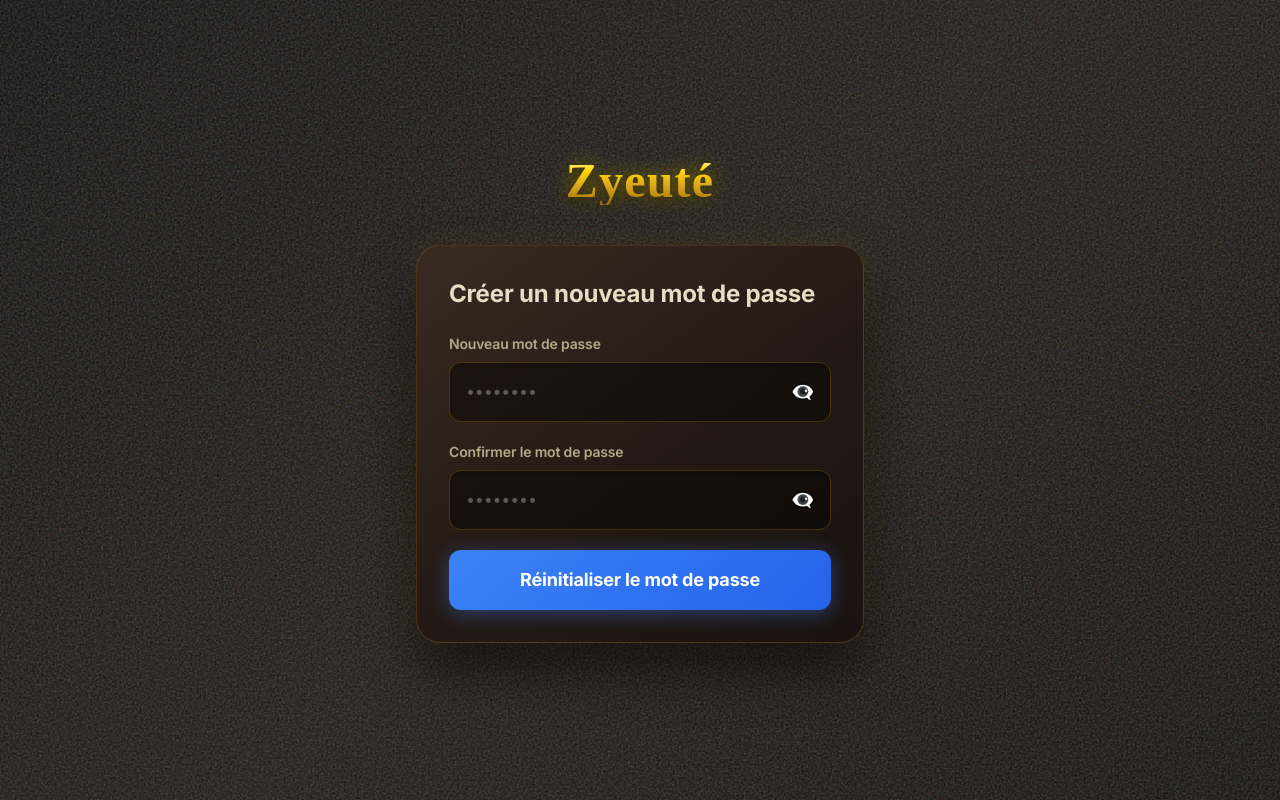
Test: Password Management › ResetPassword Page › should validate password matching
Step 1. Type "password123" into the 1st password field with placeholder "••••••••" → (640, 392), box [449,362,831,422]
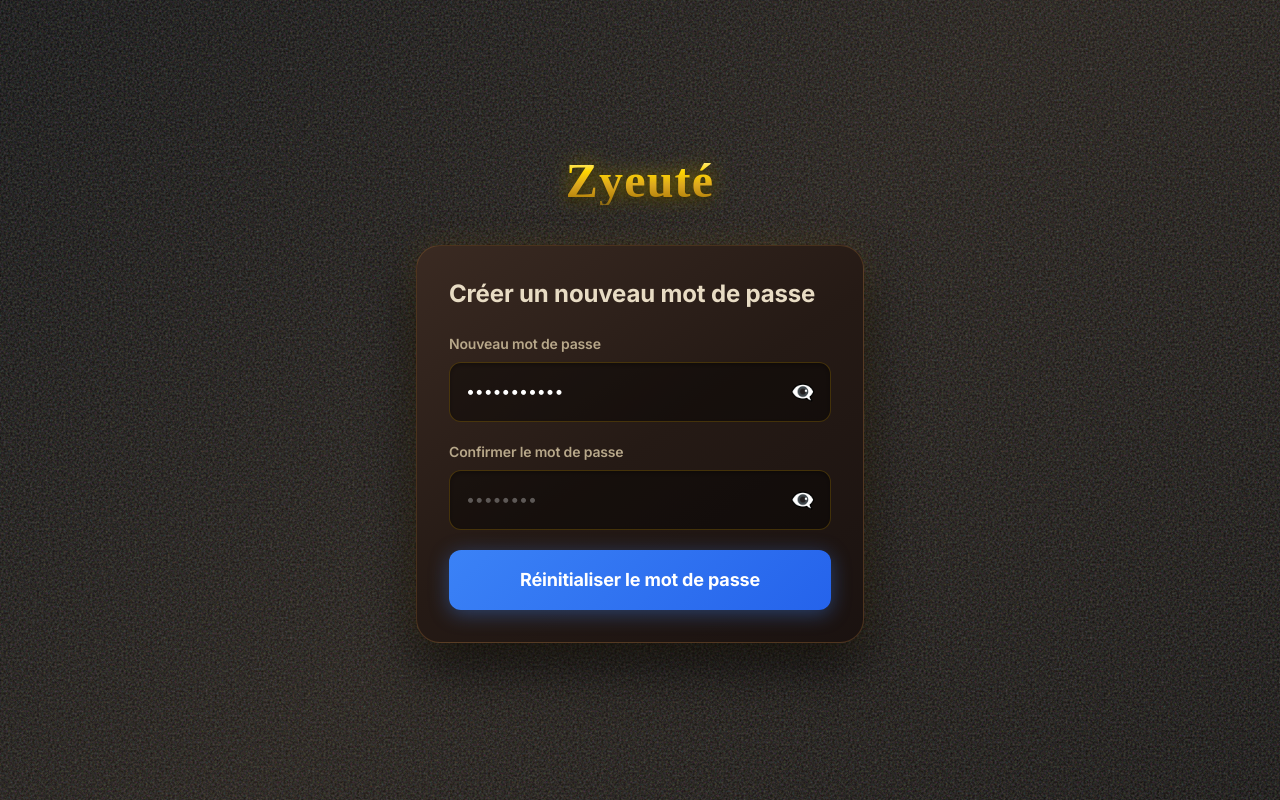
Step 2. Type "different" into the password field with placeholder "••••••••" → (640, 500), box [449,470,831,530]
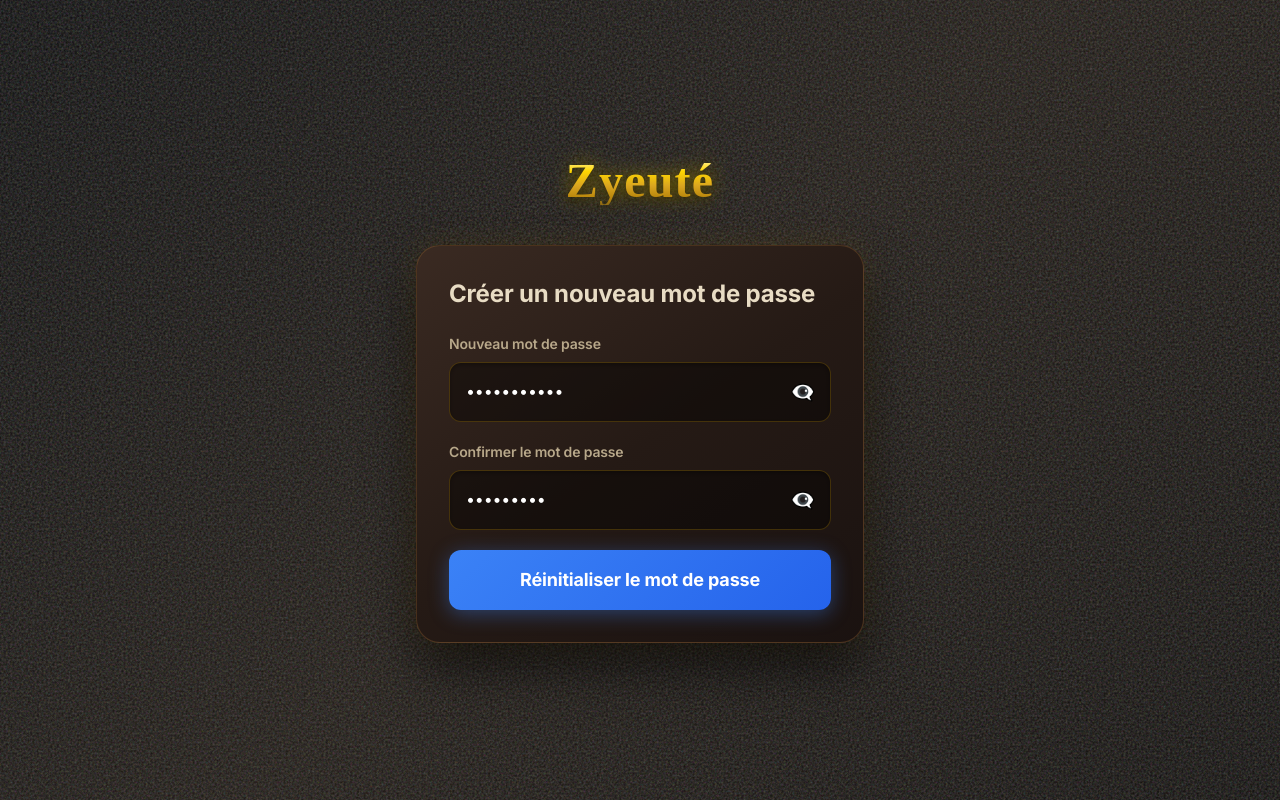
Step 3. Click the button "Réinitialiser le mot de passe" → (640, 580), box [449,550,831,610]
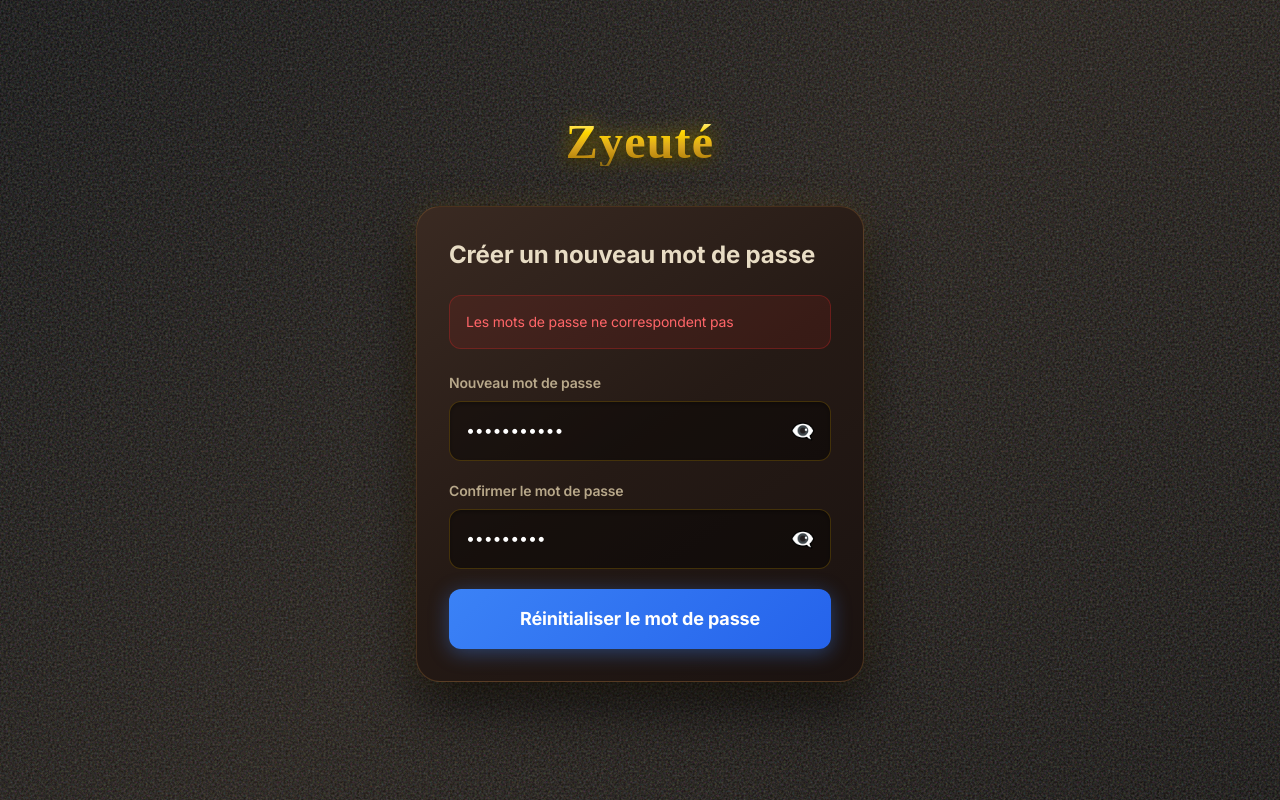
Expected: the text "Les mots de passe ne correspondent pas" is shown, [466,313,734,330]
